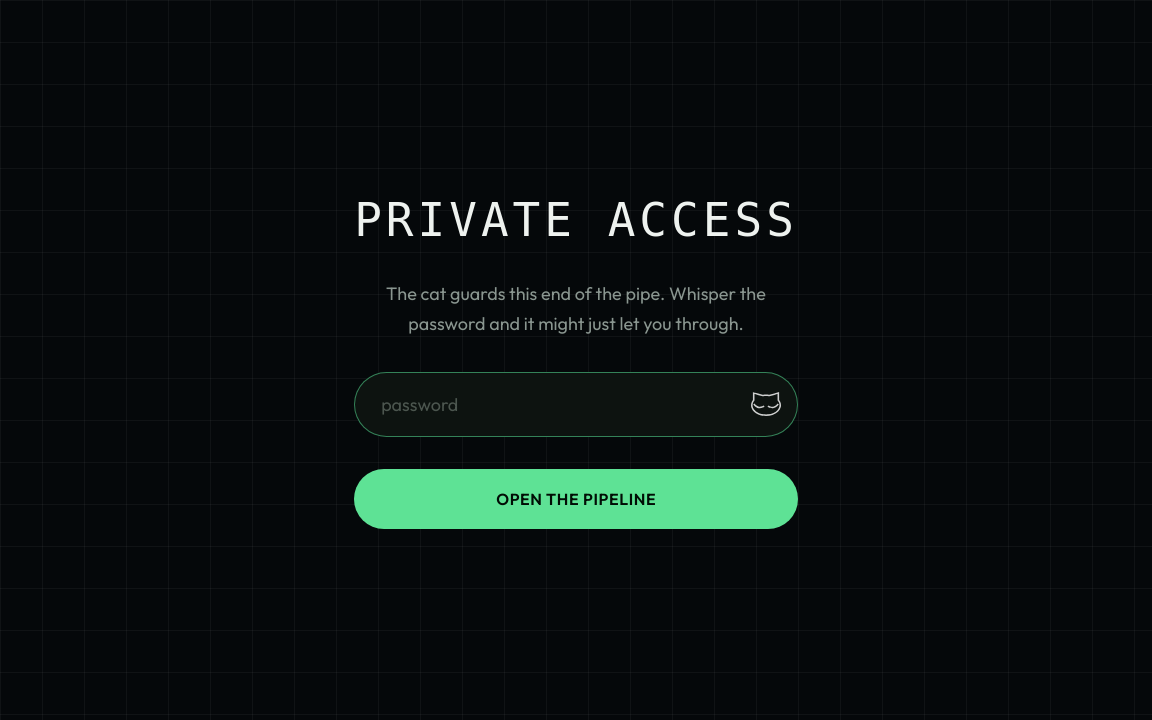
Scenario: LoginPage › shows the success state after a correct password
This screenshot has width=1152, height=720.
In the password field labelled "password": (576, 404) [354, 372, 798, 437], type "correct-horse"
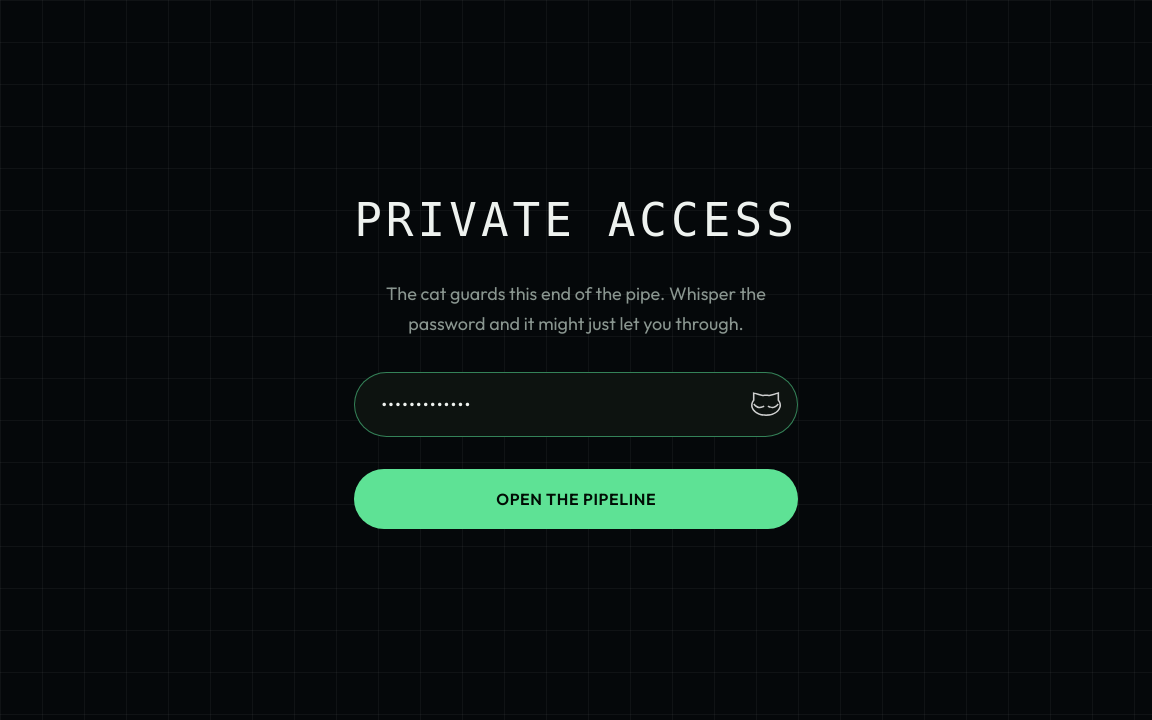
Click the button "OPEN THE PIPELINE": click(576, 499) [354, 469, 798, 529]
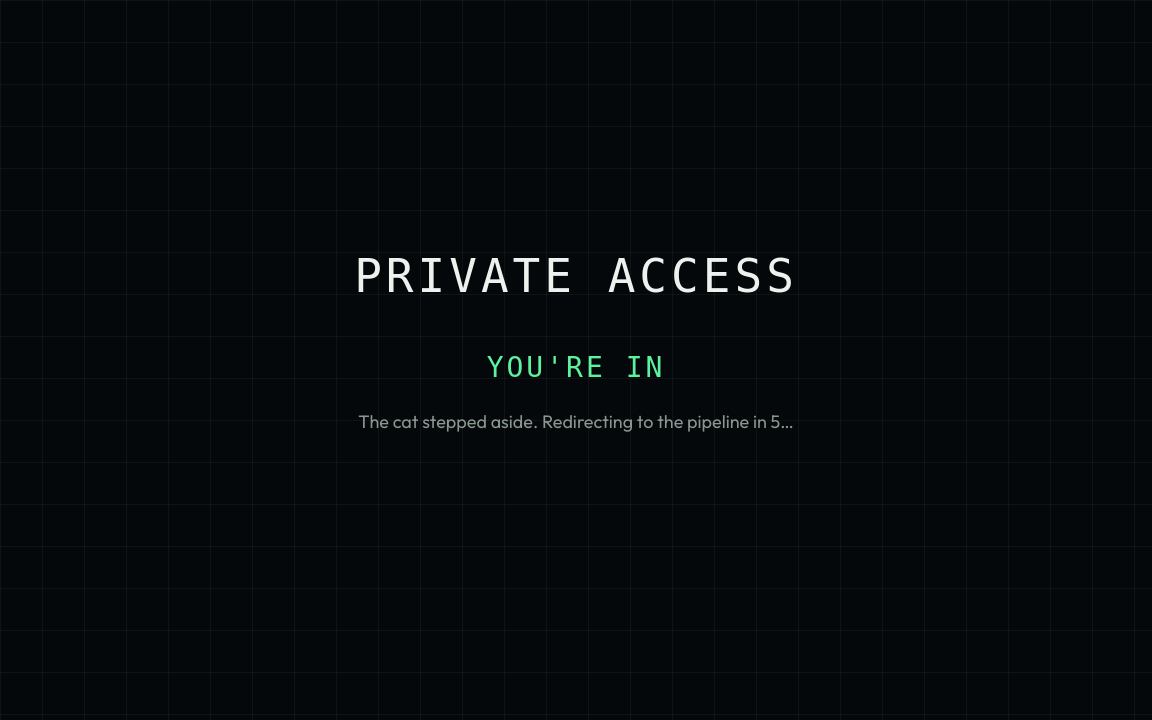
expect the text "YOU'RE IN" is shown: met, box [487, 351, 665, 384]
